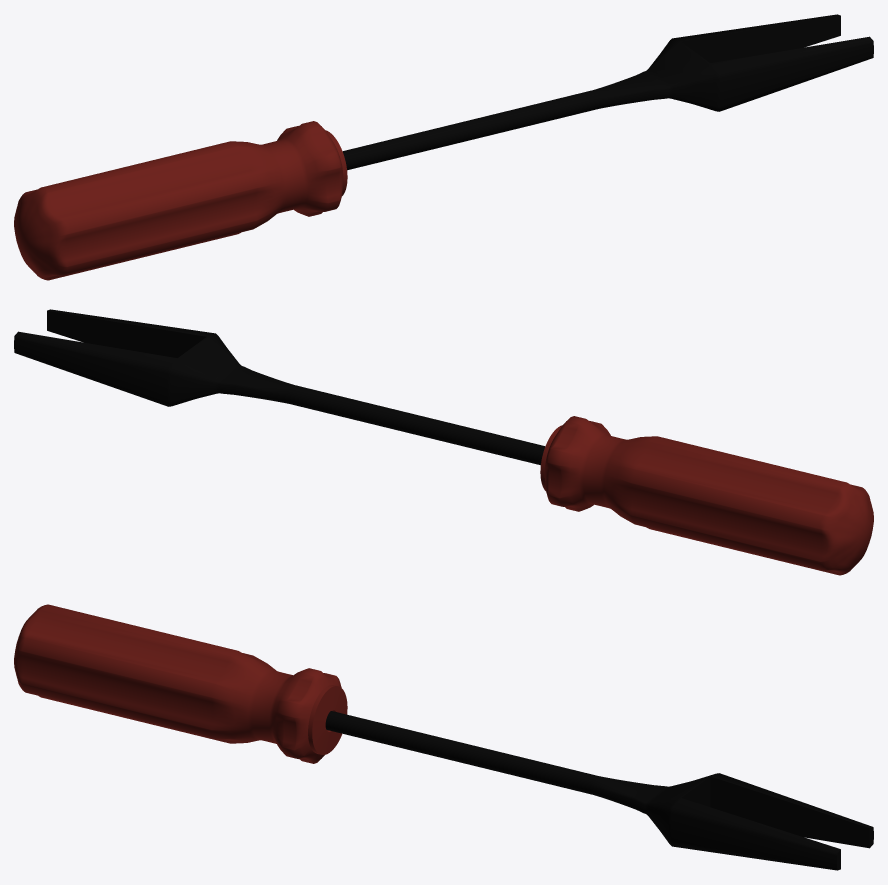
The model's file is Srafciger.FBX.
3 renders of one model, top to bottom at view 1: azimuth 30°, elevation 25°; view 2: azimuth 150°, elevation 25°; view 3: azimuth 330°, elevation 25°, orthographic.
Visible parts, largest first — view 1: Отвертка; view 2: Отвертка; view 3: Отвертка.
Boxes of the visible parts, x1=… form: Отвертка: x1=14, y1=14, x2=873, y2=280; Отвертка: x1=14, y1=309, x2=873, y2=575; Отвертка: x1=14, y1=604, x2=873, y2=870.
Bounding box in the file's own units: 1981 × 206 × 205.
